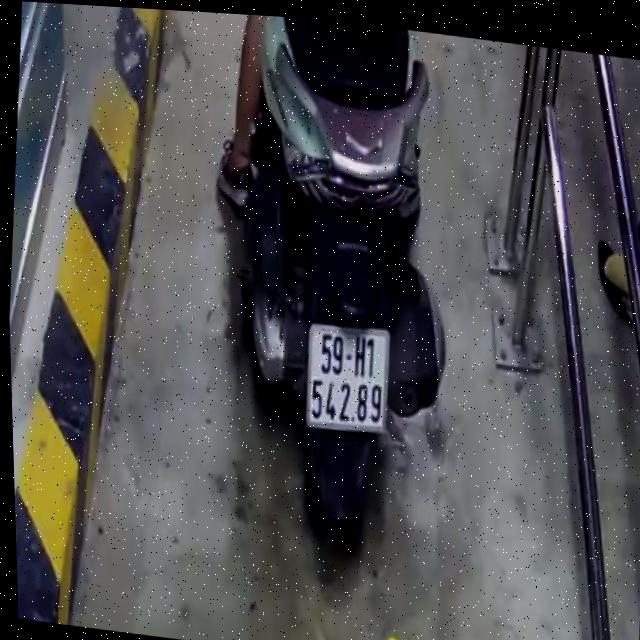motorcycle: (209, 12, 490, 567)
plate: (293, 315, 398, 443)
